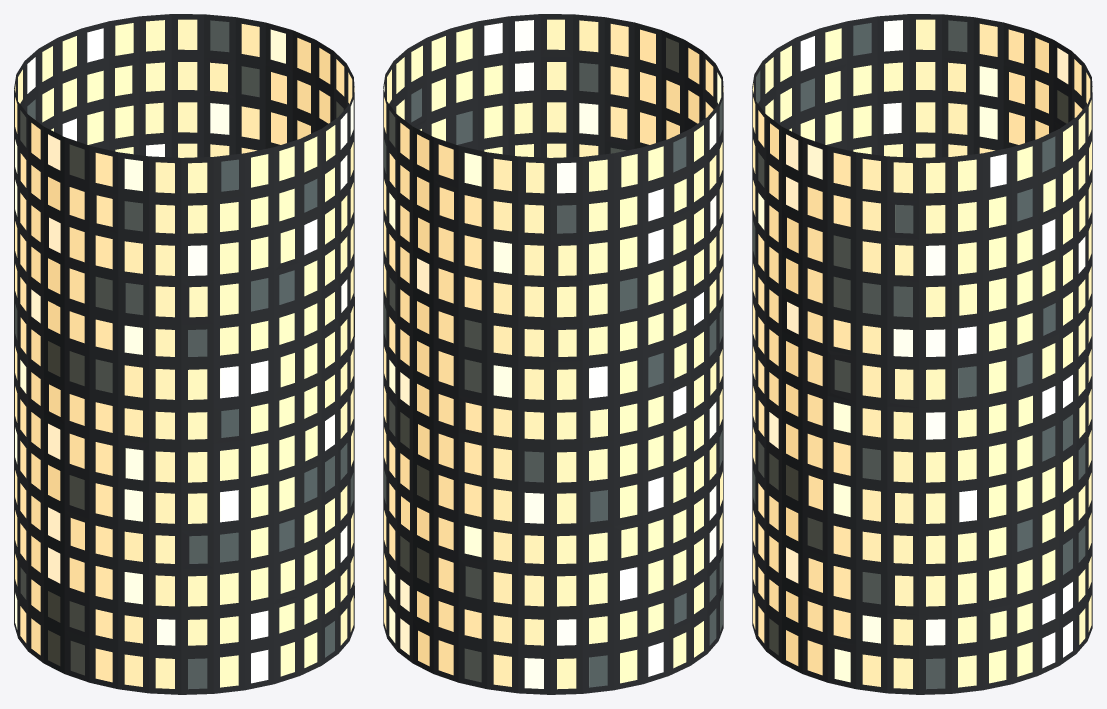
The model's file is SM_Bld_OfficeRound_03.fbx.
3 views of the same model, side by side, from view 1: azimuth 30°, elevation 25°; view 2: azimuth 150°, elevation 25°; view 3: azimuth 270°, elevation 25° (orthographic).
Visible parts, largest first — view 1: SM_Bld_OfficeRound_03; view 2: SM_Bld_OfficeRound_03; view 3: SM_Bld_OfficeRound_03.
Boxes of the visible parts, x1=… form: SM_Bld_OfficeRound_03: x1=14, y1=14, x2=354, y2=694; SM_Bld_OfficeRound_03: x1=383, y1=14, x2=723, y2=694; SM_Bld_OfficeRound_03: x1=752, y1=14, x2=1092, y2=694.
Size of the model in its own units: 2204 by 3836 by 2205.
